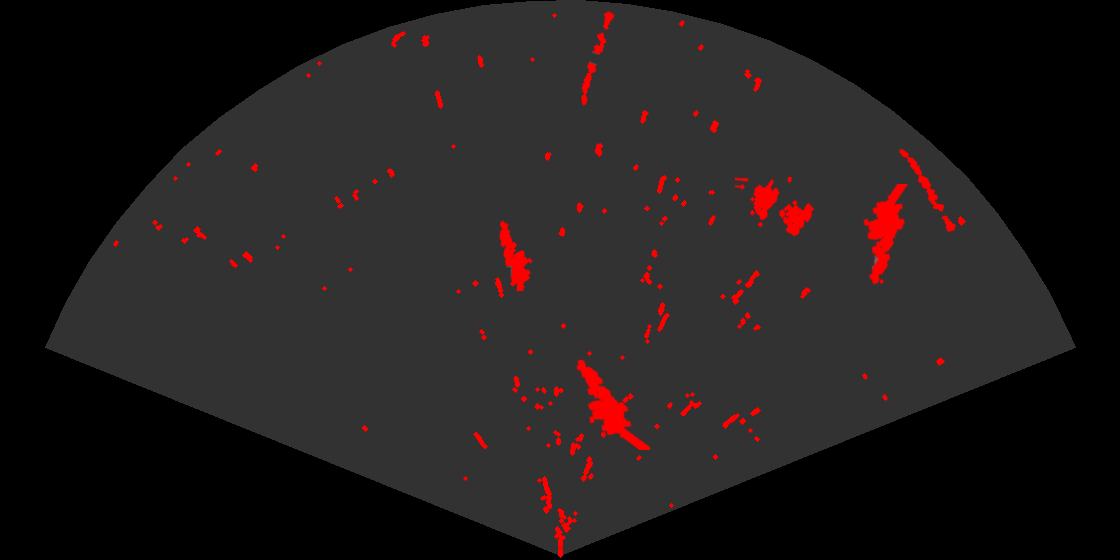cage: (735, 177, 816, 238)
chain: (898, 147, 957, 234), (579, 9, 616, 107)
frogman: (575, 358, 650, 450), (861, 184, 910, 286), (498, 219, 534, 291)
